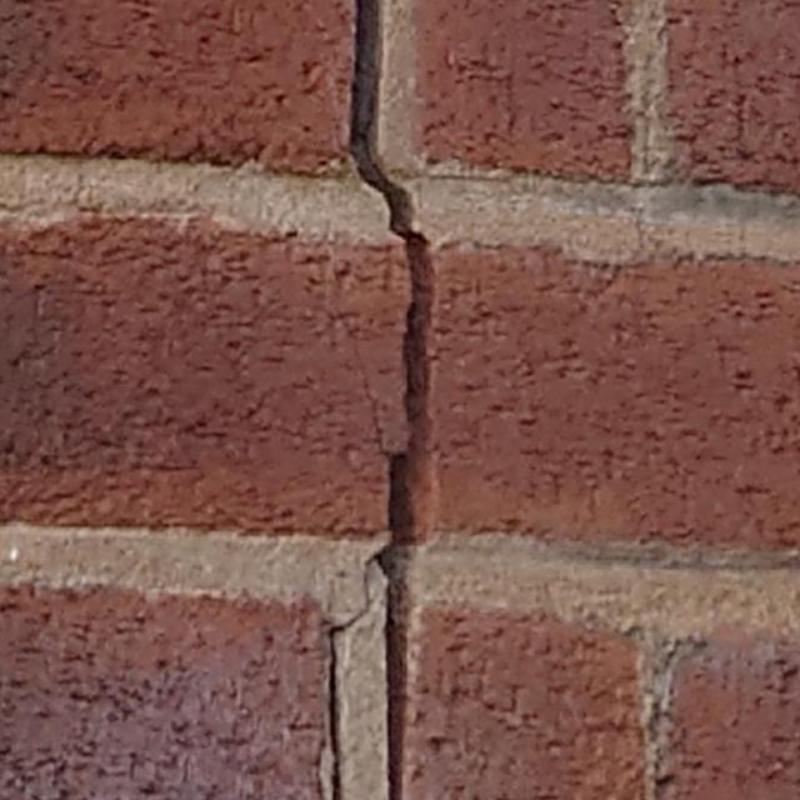crack: (350, 0, 434, 799), (330, 554, 376, 799)
